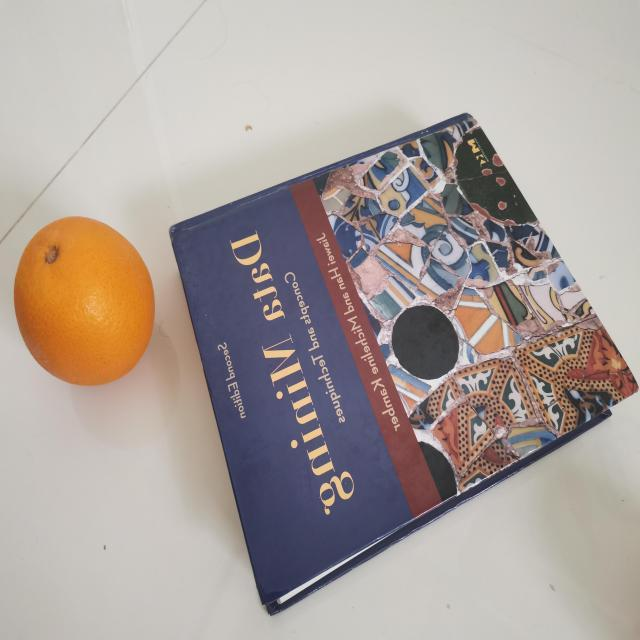orange: (11, 213, 158, 391)
